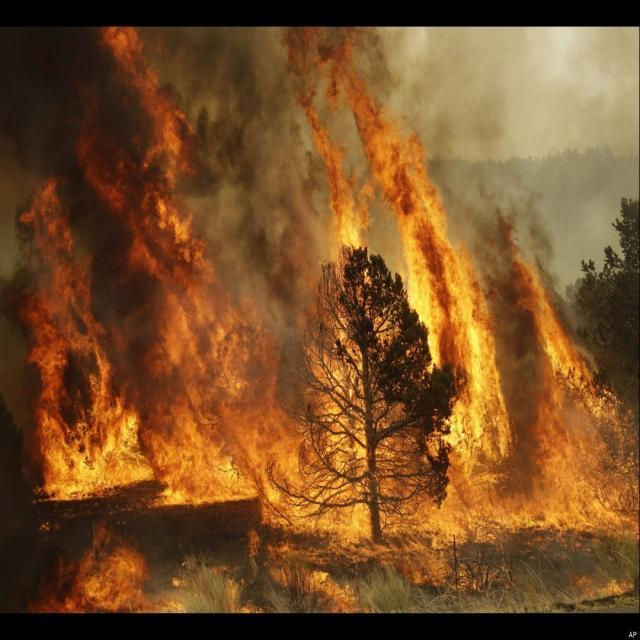Fire: (22, 149, 631, 536), (55, 536, 334, 605)
Smoke: (19, 44, 333, 332)
